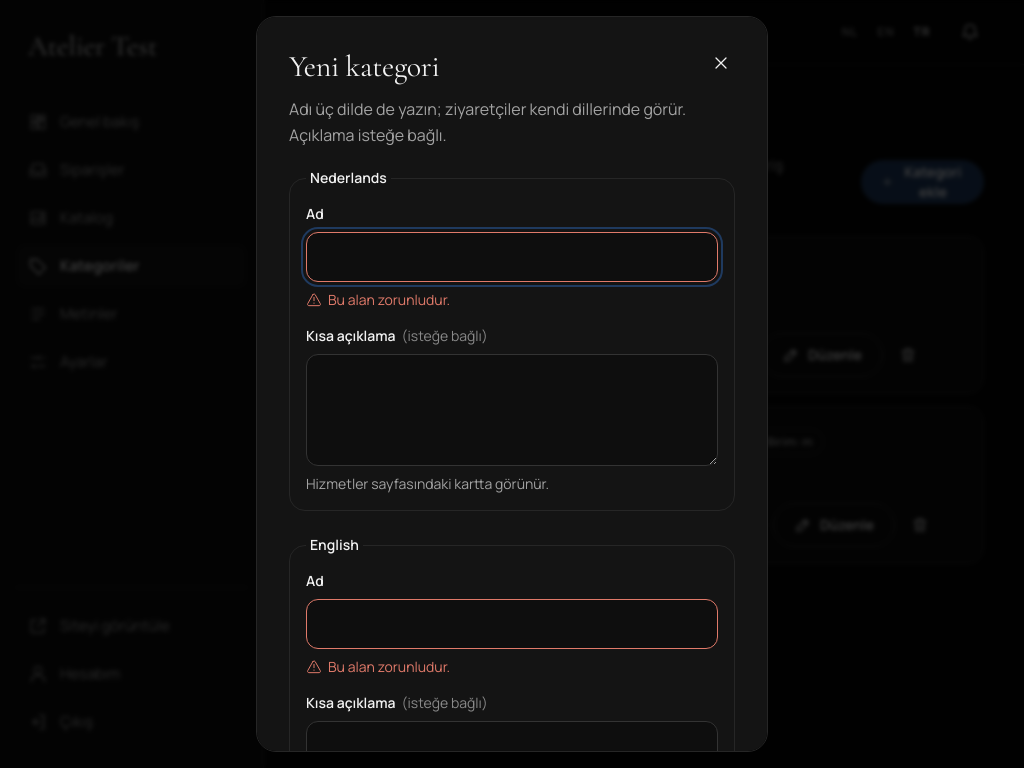
Scenario: categories page › adds a category with description, unit and switches; all three names are required
Earlier steps of the test are not shown.
Check: the text "Bu alan zorunludur." is shown 2 times, box [328,290,450,310]; [328,657,450,677]
Type "Bruiloften" into the field labelled "Ad" below "Nederlands" at [512, 257], box [306,232,718,282]
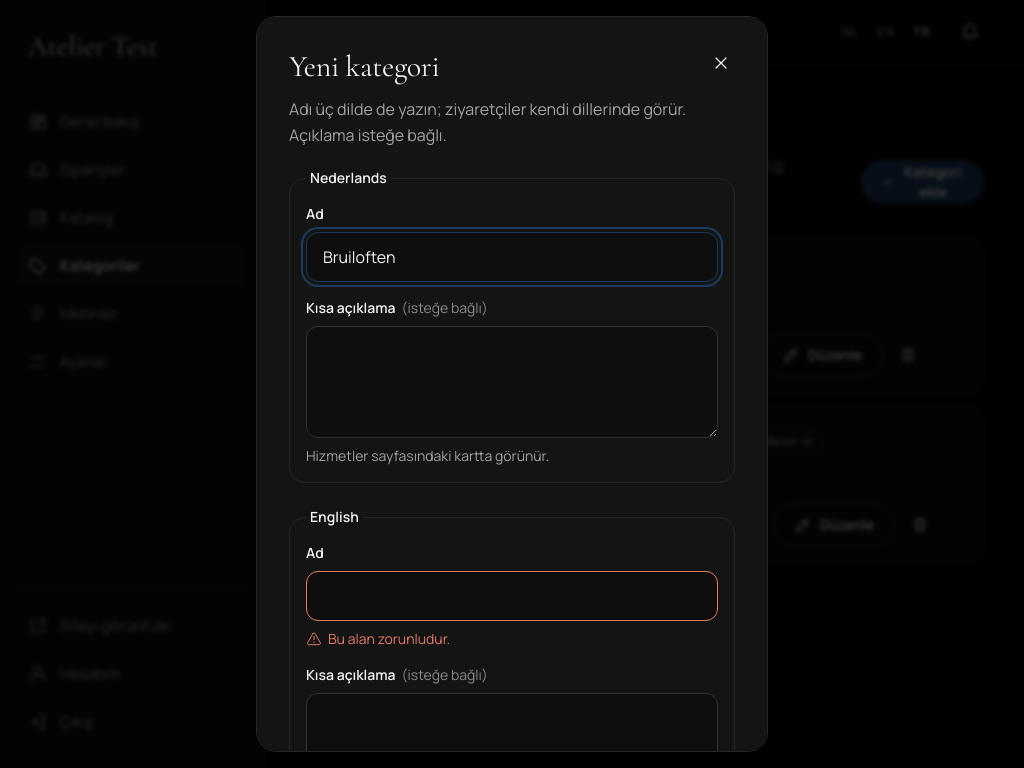
Type "Weddings" into the field labelled "Ad" below "English" at [512, 596], box [306,571,718,621]
(page scrolled)
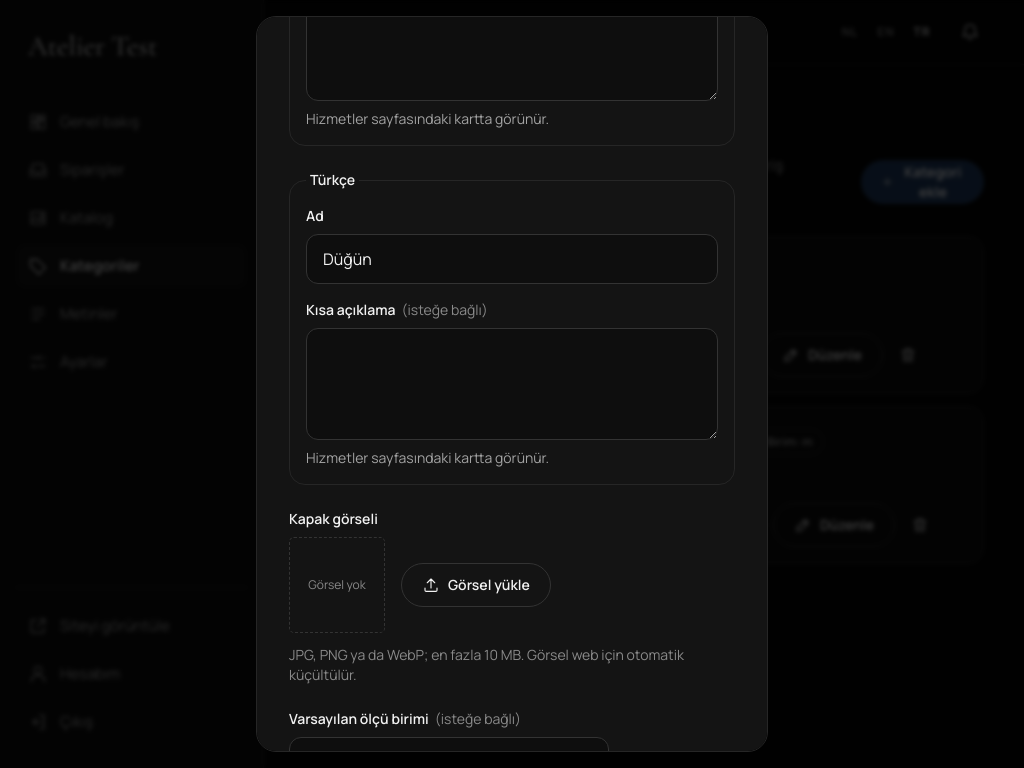
Type "Düğün salonları için." into the text box labelled "Kısa açıklama(isteğe bağlı)" below "Kısa açıklama" at [512, 384], box [306,328,718,440]
(page scrolled)
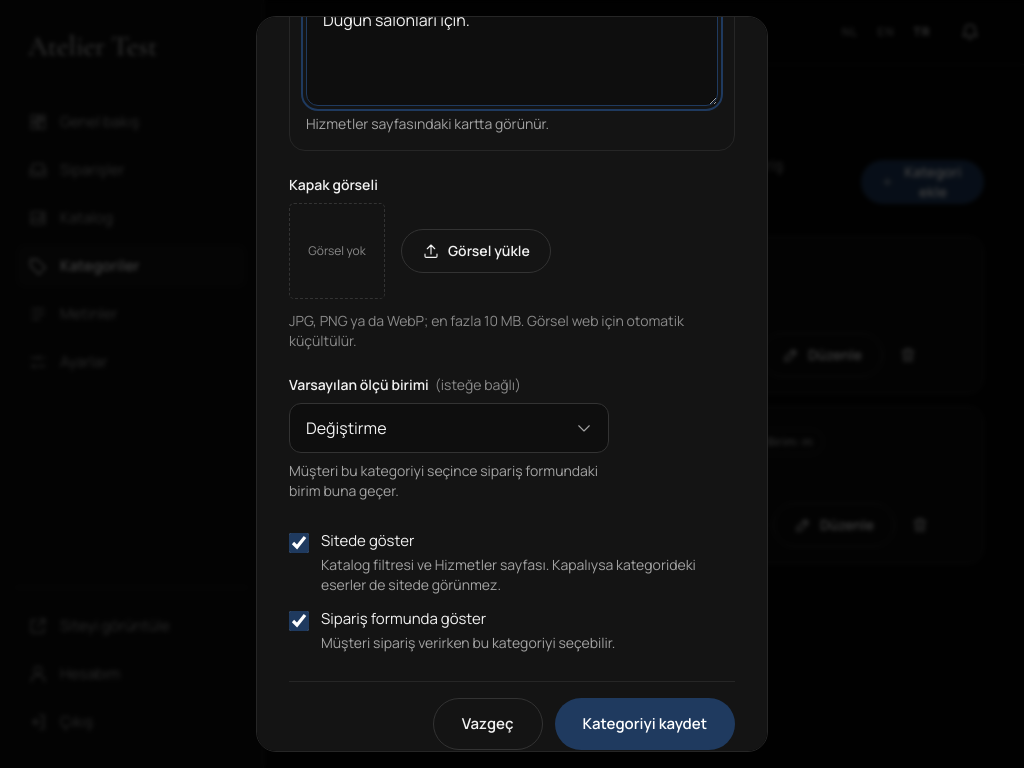
Select "m" in the dropdown labelled "Varsayılan ölçü birimi(isteğe bağlı)" at [449, 428], box [289,403,609,453]
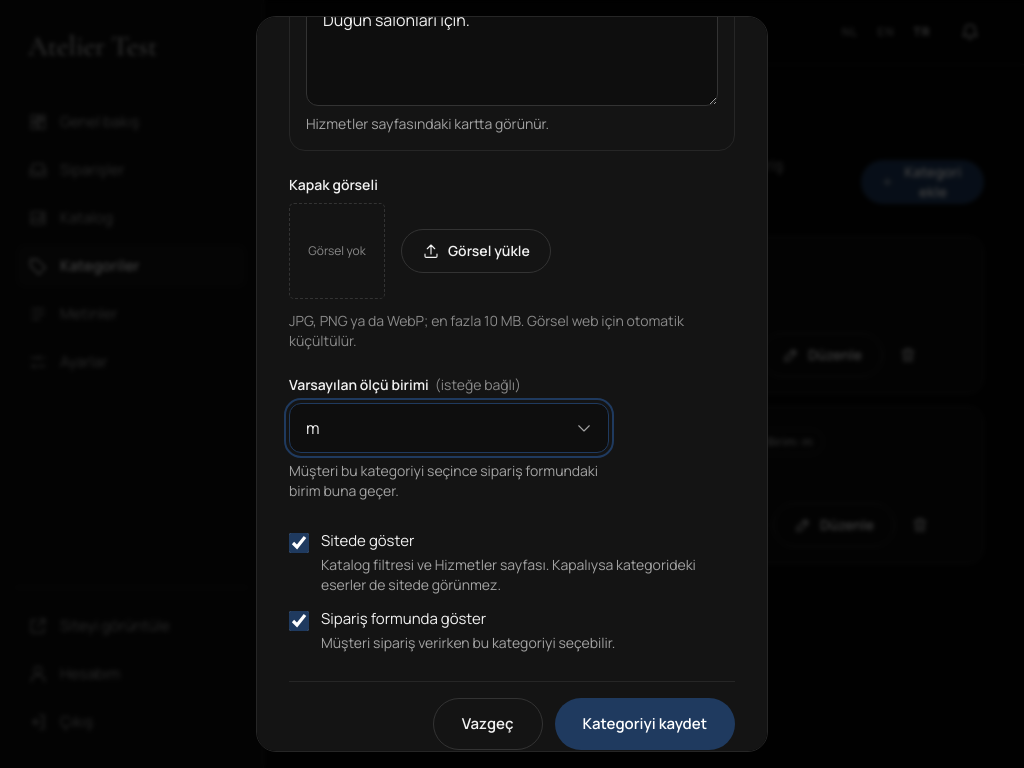
Click the checkbox labelled "Sipariş formunda göster" at [299, 621], box [289,611,309,631]
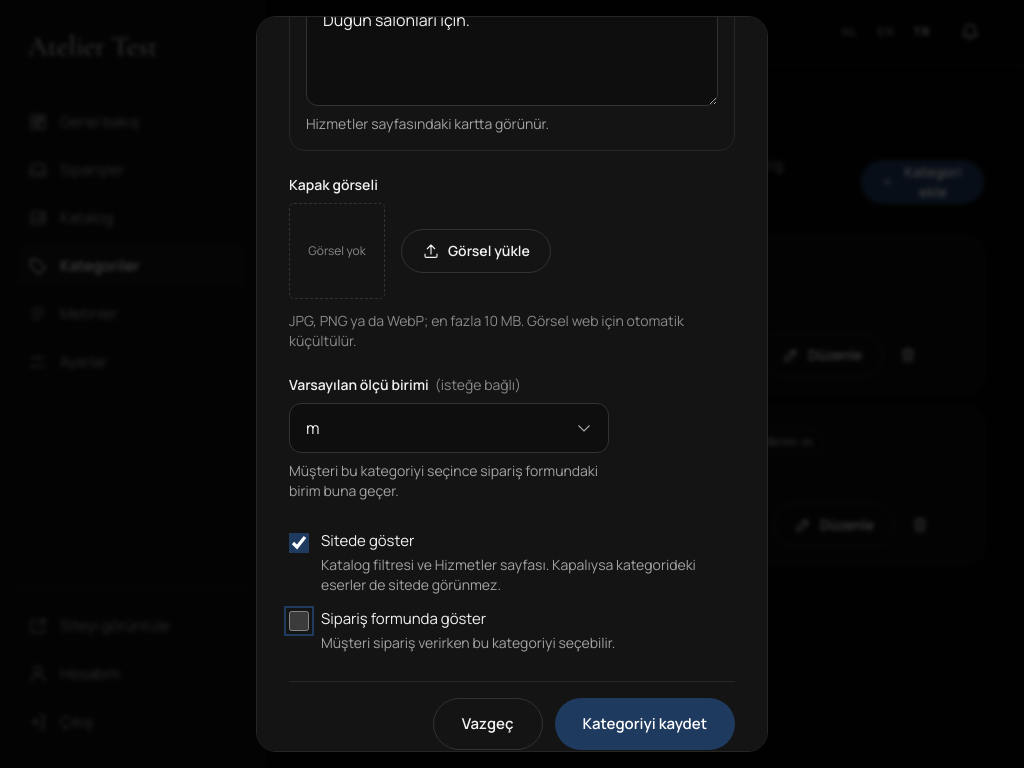
Click the button "Kategoriyi kaydet" at [645, 724], box [555,698,735,750]
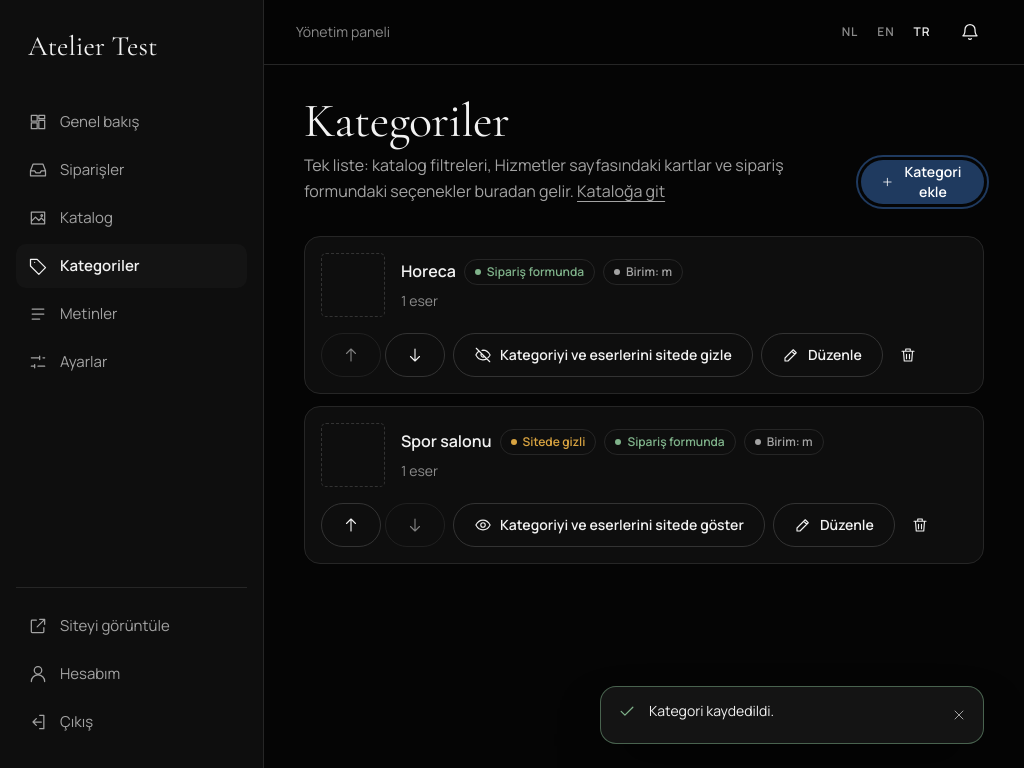
Check: the text "Kategori kaydedildi." is shown, box [649,701,774,720]
